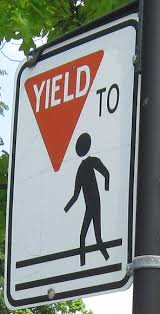yield_sign: (10, 7, 131, 303)
